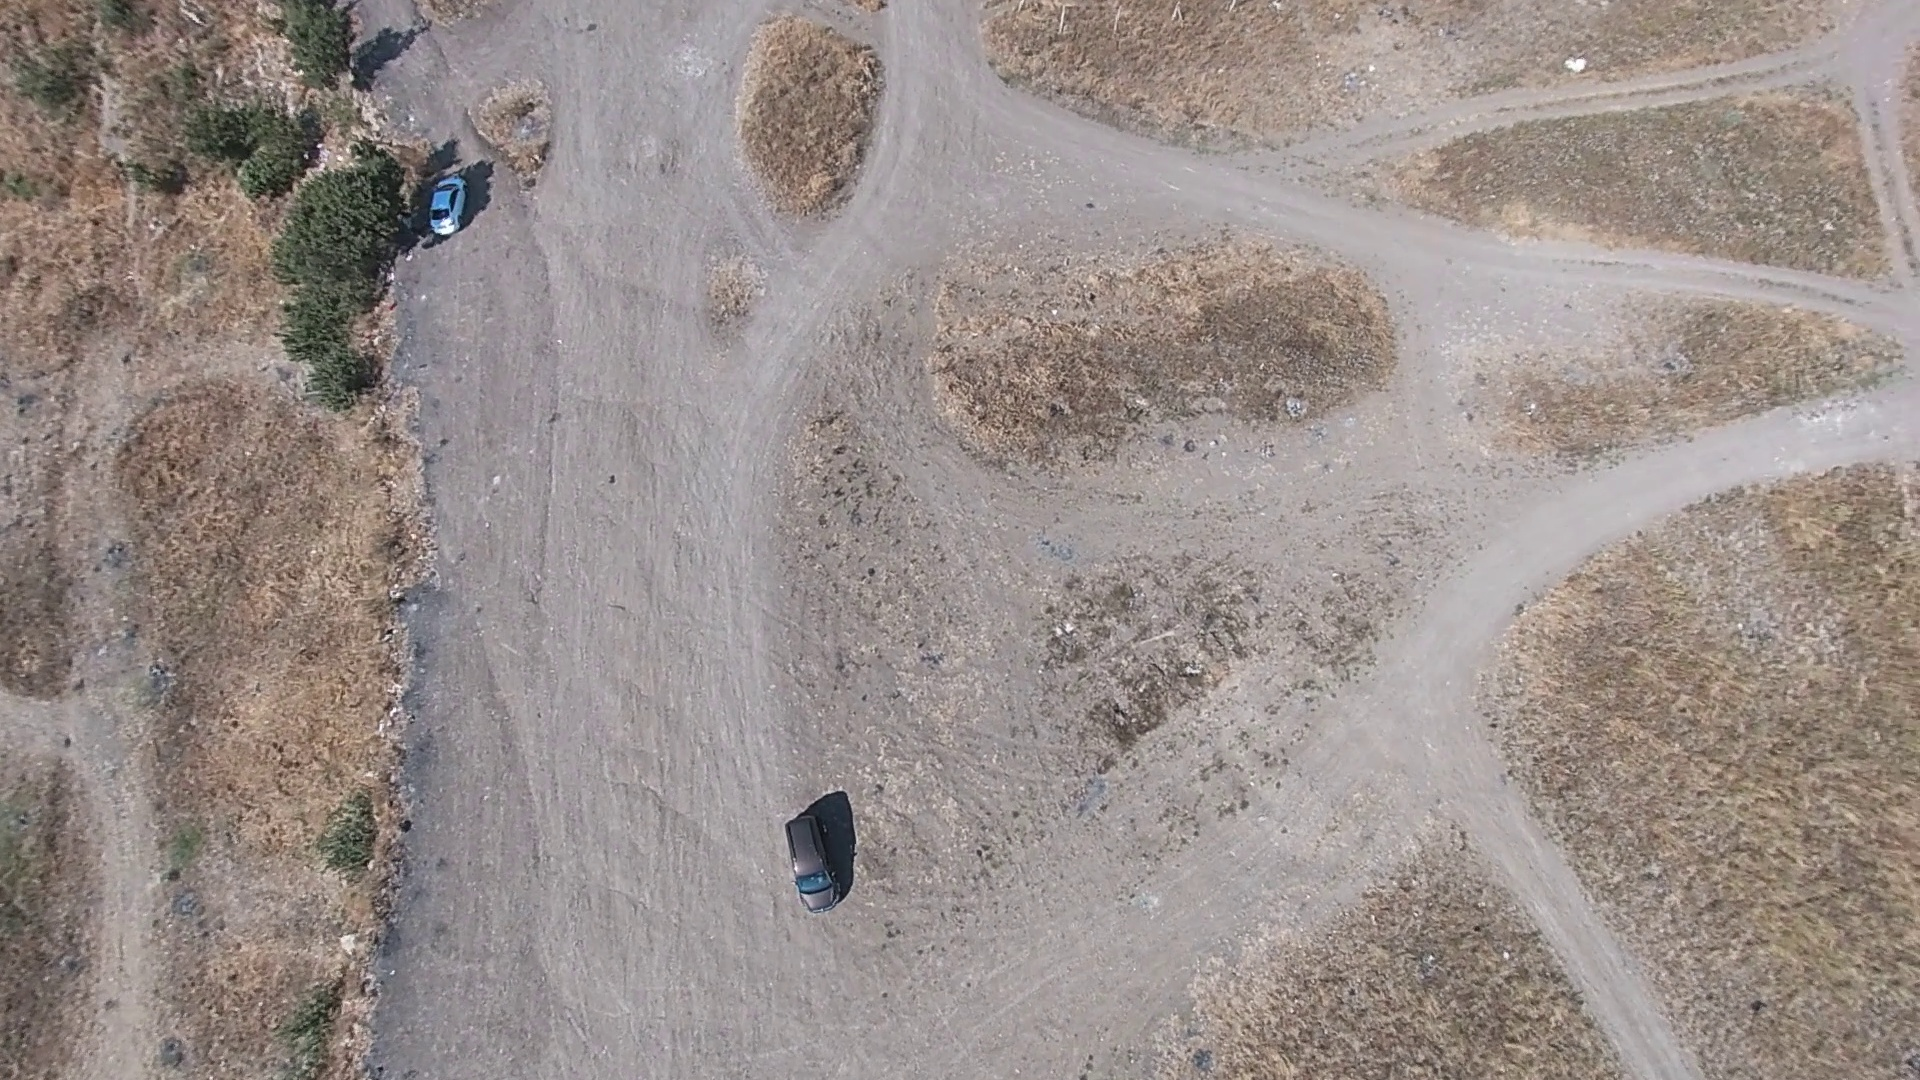araba: (779, 796, 847, 909), (427, 173, 465, 237)
